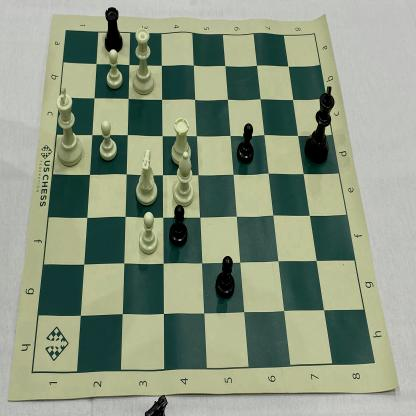black-king: (302, 83, 338, 167)
black-knight: (130, 24, 158, 98)
black-pawn: (214, 252, 238, 302), (166, 203, 190, 248), (235, 119, 257, 168)
black-rook: (100, 2, 126, 57)
white-bishop: (172, 147, 196, 212)
white-king: (53, 81, 86, 170)
white-knight: (133, 146, 160, 208)
white-pawn: (96, 117, 120, 165), (136, 208, 159, 258), (102, 48, 126, 92)
white-rook: (167, 112, 194, 169)
